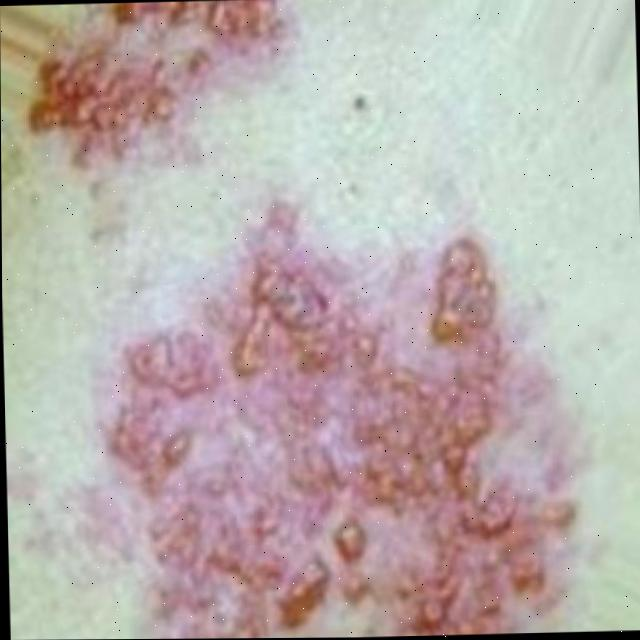Shingles: (99, 186, 581, 639), (23, 0, 301, 178)
